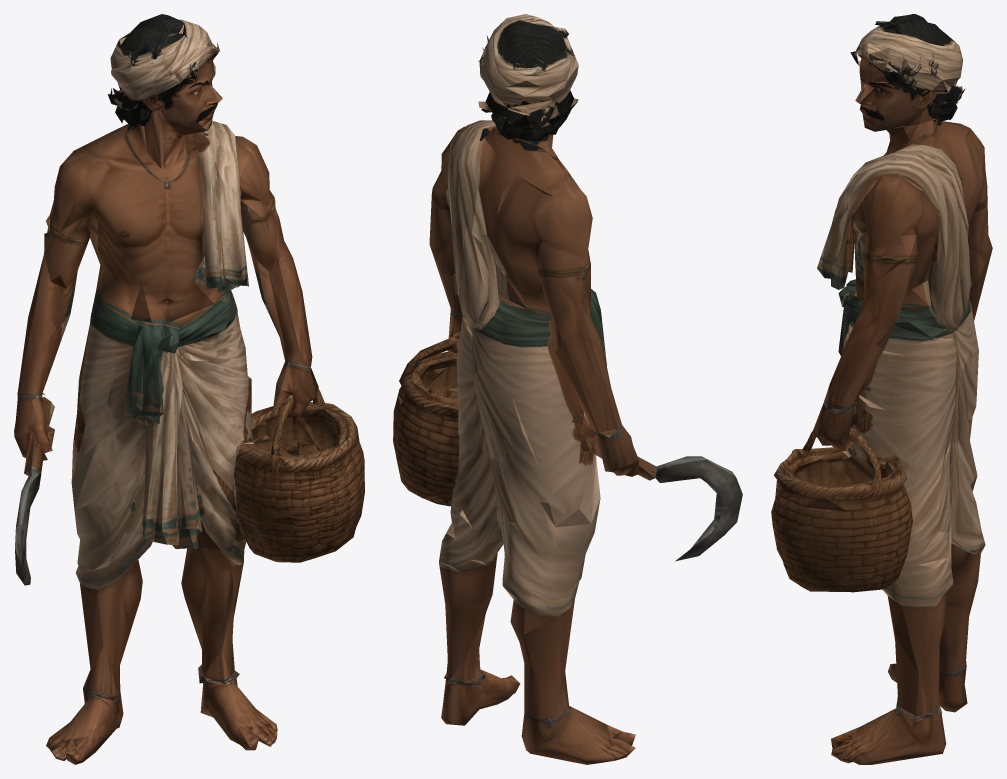
The model's file is HarvestGuardianMale.fbx.
The picture shows the model from 3 angles, left to right: view 1: azimuth 30°, elevation 25°; view 2: azimuth 150°, elevation 25°; view 3: azimuth 270°, elevation 25°; orthographic projection.
Parts seen in each view (by area): view 1: output_unwrapped; view 2: output_unwrapped; view 3: output_unwrapped.
Part boxes in pixels (left/top/right/bottom): output_unwrapped: left=14, top=14, right=364, bottom=764; output_unwrapped: left=393, top=14, right=742, bottom=764; output_unwrapped: left=771, top=14, right=992, bottom=764.
Bounding box in the file's own units: 95.03 × 190 × 53.9.
1 material, 1 textured.
